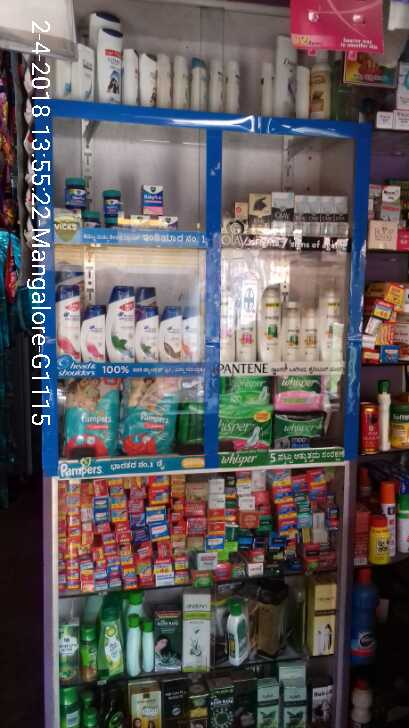vicks: (61, 171, 120, 232), (126, 178, 179, 228)
